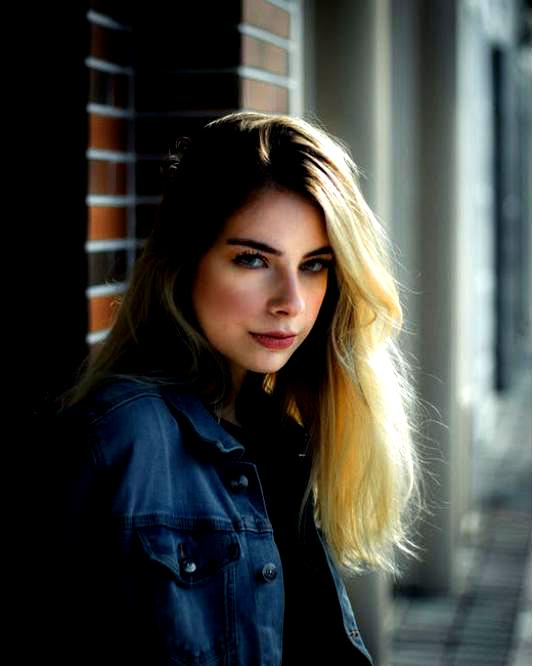face: (194, 188, 331, 374)
